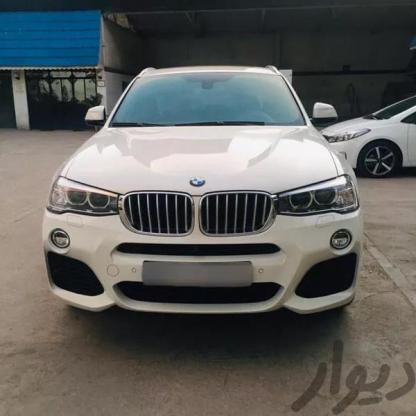Car: (40, 58, 360, 326), (316, 103, 416, 190)
